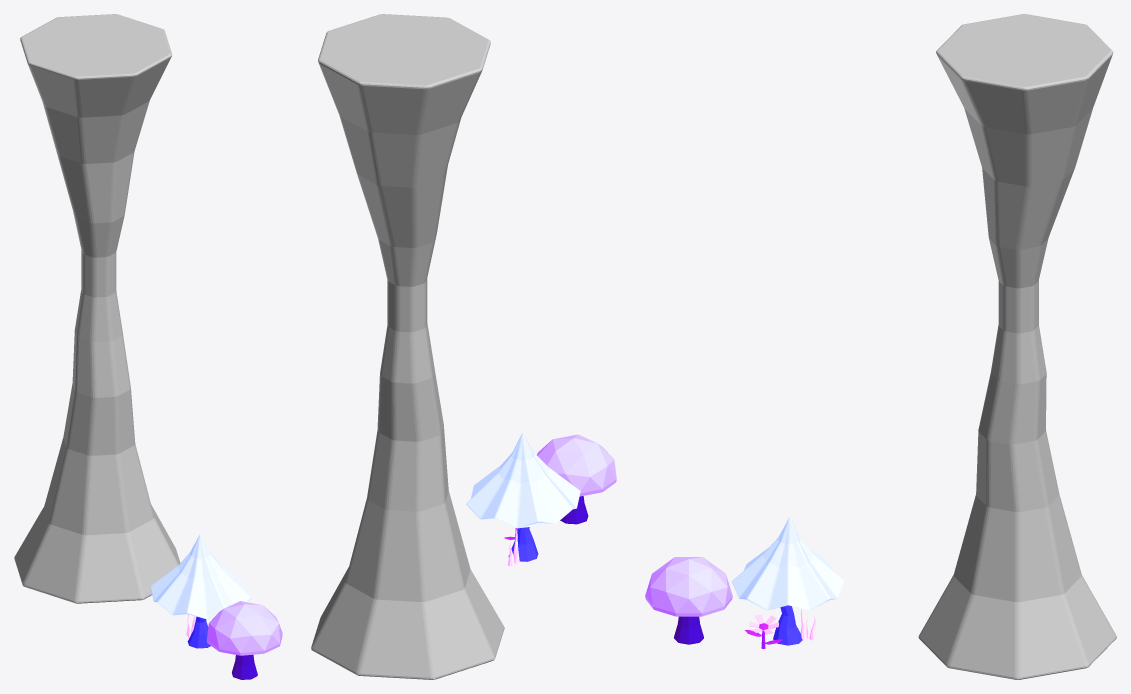
Rendered from Champignion_UNITY.fbx.
The picture shows the model from 3 angles, left to right: view 1: azimuth 30°, elevation 25°; view 2: azimuth 150°, elevation 25°; view 3: azimuth 270°, elevation 25°; orthographic projection. The views are drawn at different scales.
Parts seen in each view (by area): view 1: Cylinder.011, Plane.001, Icosphere.001, Cylinder, Cylinder.002; view 2: Cylinder.011, Plane.001, Icosphere.001, Cylinder.002; view 3: Cylinder.011, Plane.001, Icosphere.001, Cylinder.002, Cylinder.
Boxes of the visible parts, <box> form: Cylinder.011: <box>14,14,180,603</box>; Plane.001: <box>150,534,250,618</box>; Icosphere.001: <box>206,601,282,655</box>; Cylinder: <box>232,654,257,679</box>; Cylinder.002: <box>187,616,210,648</box>; Cylinder.011: <box>311,14,504,679</box>; Plane.001: <box>466,432,580,528</box>; Icosphere.001: <box>537,434,616,496</box>; Cylinder.002: <box>508,527,538,561</box>; Cylinder.011: <box>918,14,1116,679</box>; Plane.001: <box>732,516,844,610</box>; Icosphere.001: <box>645,557,732,616</box>; Cylinder.002: <box>773,605,802,645</box>; Cylinder: <box>674,616,703,644</box>.
Size of the model in its own units: 710 by 2394 by 1690.
